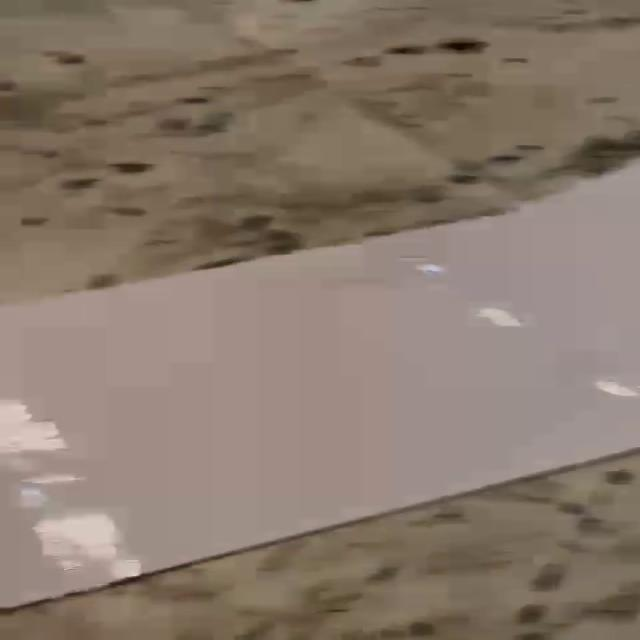road: (1, 165, 640, 605)
